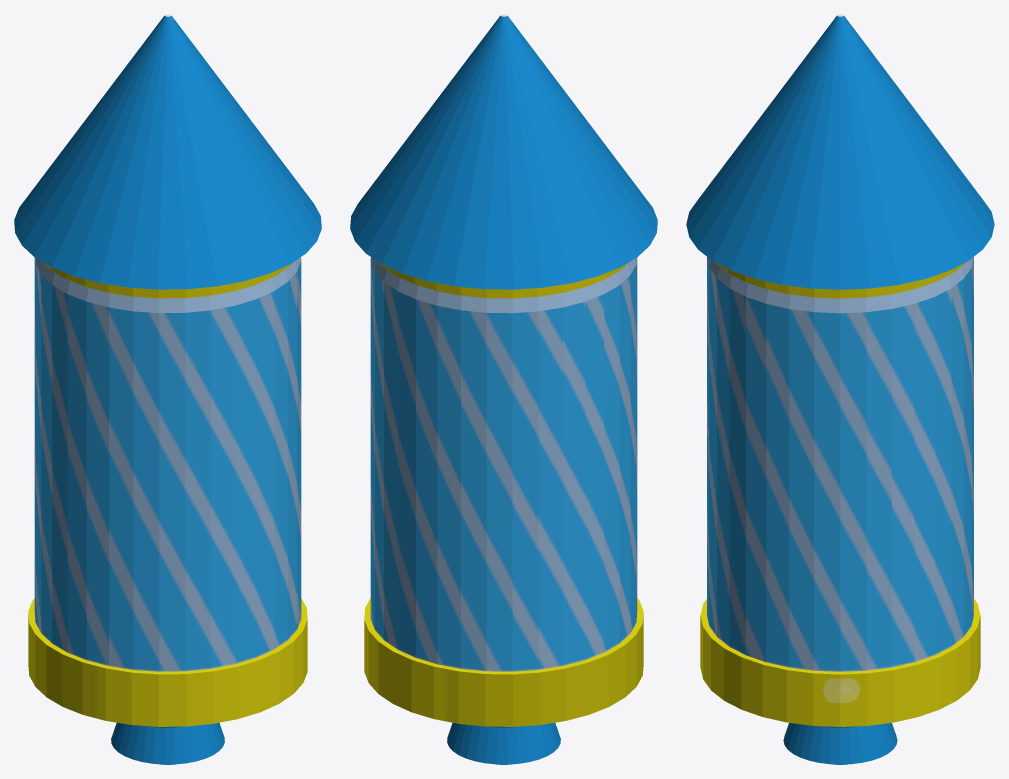
File: Raket blå.fbx
3 renders of one model, left to right at view 1: azimuth 30°, elevation 25°; view 2: azimuth 150°, elevation 25°; view 3: azimuth 270°, elevation 25°, orthographic.
Visible parts, largest first — view 1: Raket; view 2: Raket; view 3: Raket.
Part boxes in pixels (x1,y1,x2,y2): Raket: (14,14,321,764); Raket: (350,14,657,764); Raket: (686,14,994,764).
Bounding box in the file's own units: 89.43 × 236 × 89.43.
